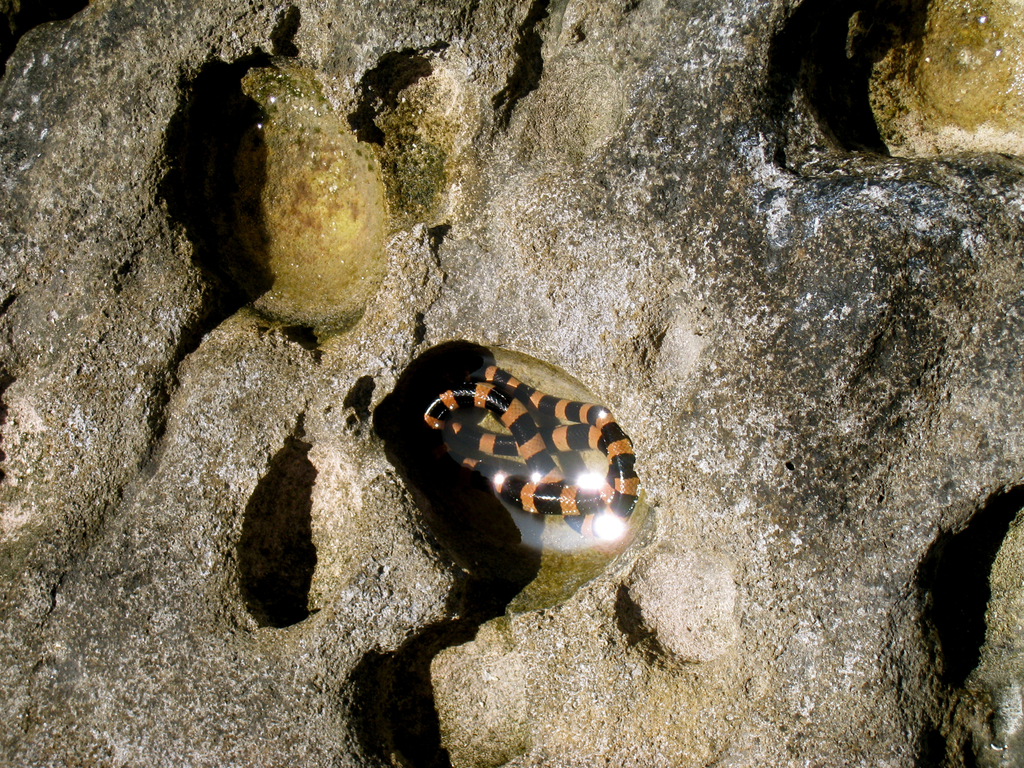Animal: (415, 361, 638, 541)
